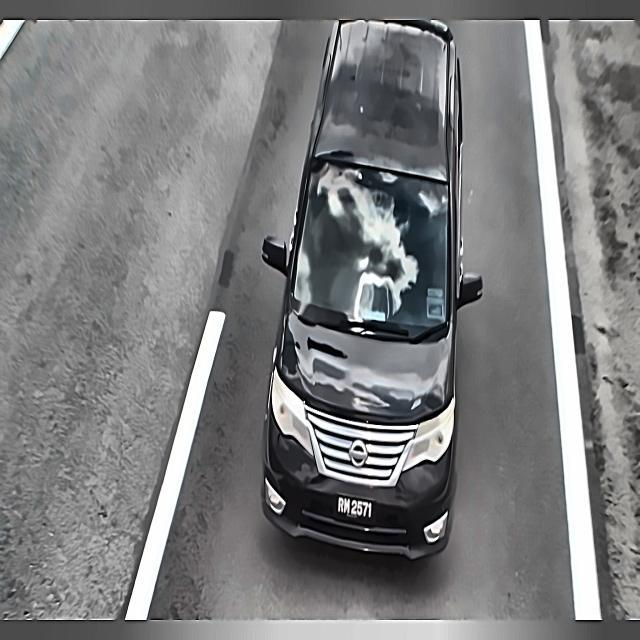car: (333, 487, 380, 531)
